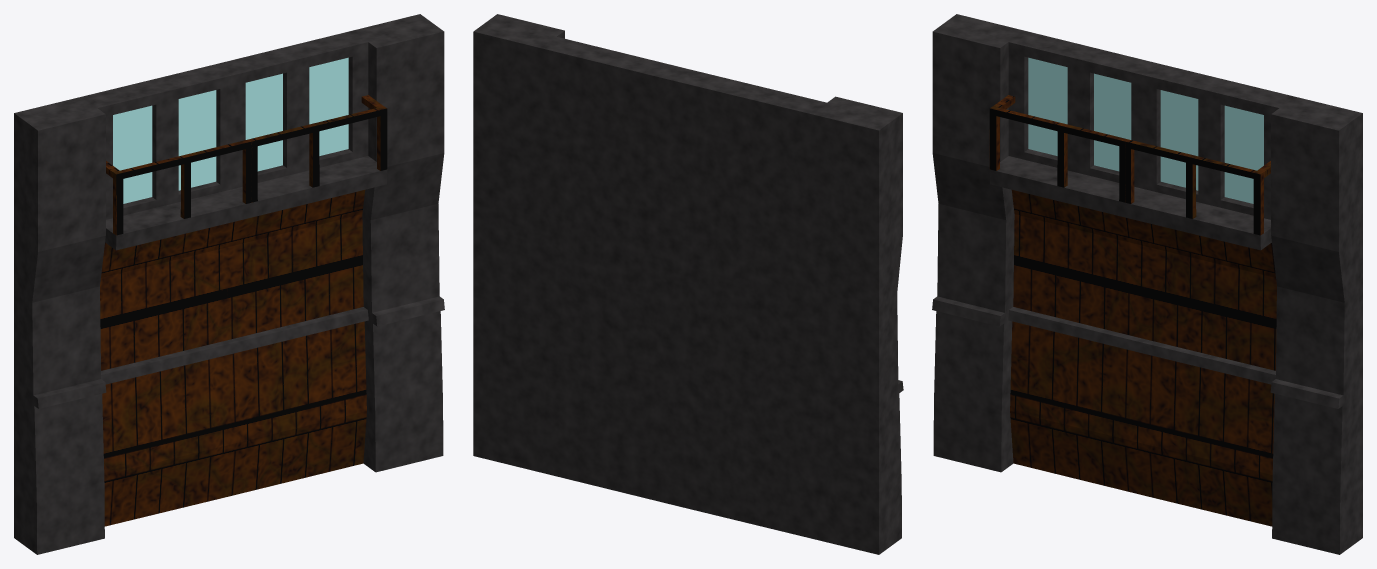
Rendered from Wall_Balcony_01.fbx.
3 views of the same model, side by side, from view 1: azimuth 30°, elevation 25°; view 2: azimuth 150°, elevation 25°; view 3: azimuth 330°, elevation 25° (orthographic).
Parts seen in each view (by area): view 1: Wall_Balcony_1x1; view 2: Wall_Balcony_1x1; view 3: Wall_Balcony_1x1.
Boxes of the visible parts, x1,y1,x2,y2 form: Wall_Balcony_1x1: (14,14,444,554); Wall_Balcony_1x1: (473,14,903,554); Wall_Balcony_1x1: (932,14,1362,554).
Bounding box in the file's own units: 400 × 400 × 59.19.
Materials: 3 (3 with a texture image).
